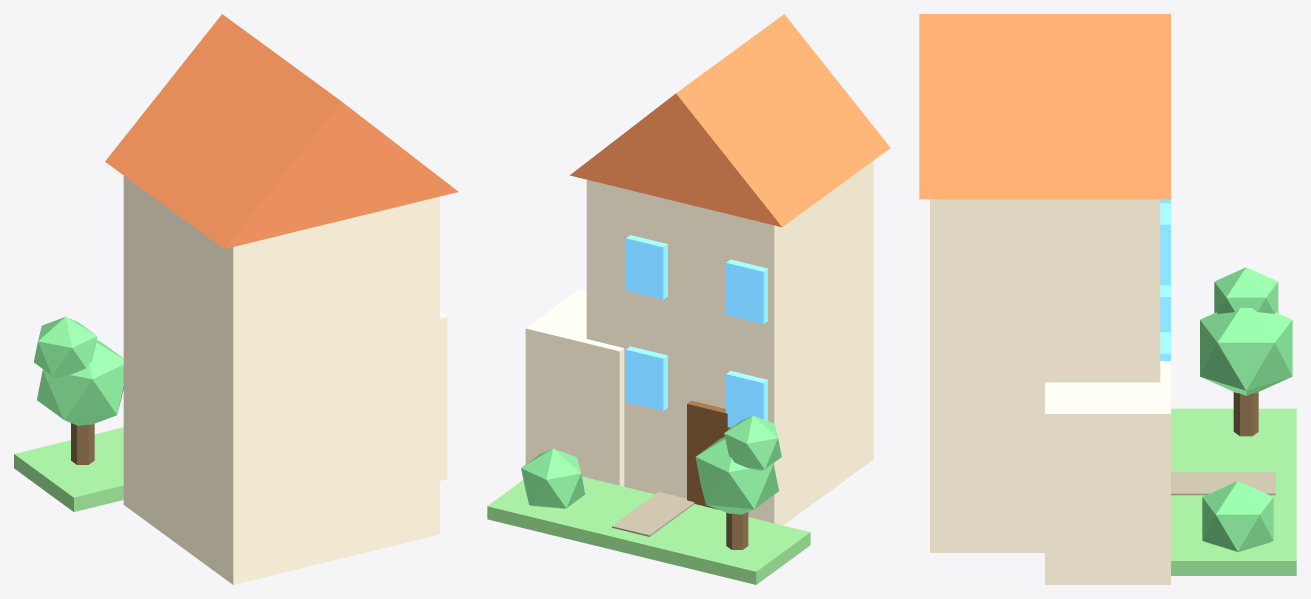
Rendered from res_suburb_2.glb.
3 renders of one model, left to right at view 1: azimuth 30°, elevation 25°; view 2: azimuth 150°, elevation 25°; view 3: azimuth 270°, elevation 25°, orthographic. The views are drawn at different scales.
Visible parts, largest first — view 1: res_suburb_2; view 2: res_suburb_2; view 3: res_suburb_2.
Boxes of the visible parts, left/top/right/bottom form: res_suburb_2: left=14, top=14, right=458, bottom=584; res_suburb_2: left=487, top=14, right=890, bottom=584; res_suburb_2: left=919, top=14, right=1296, bottom=584.
Bounding box in the file's own units: 0.9105 × 1.29 × 0.9.
